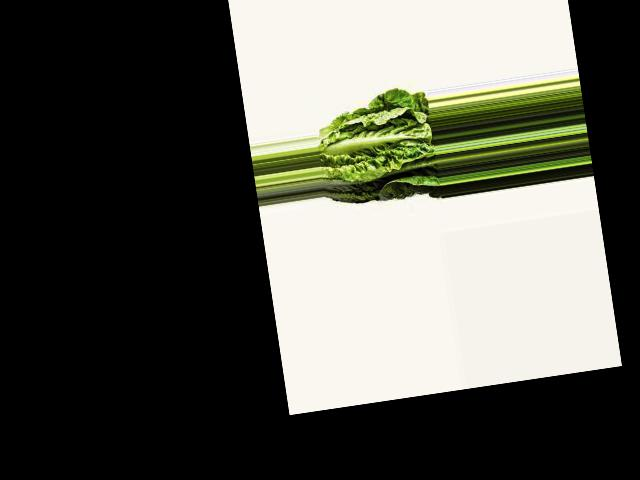lettuce: (313, 93, 437, 206)
